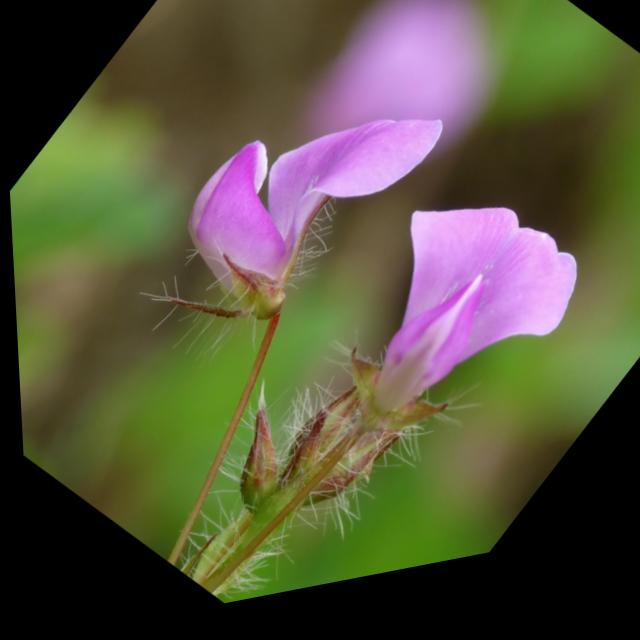Flower: (269, 139, 613, 520), (131, 13, 463, 383)
